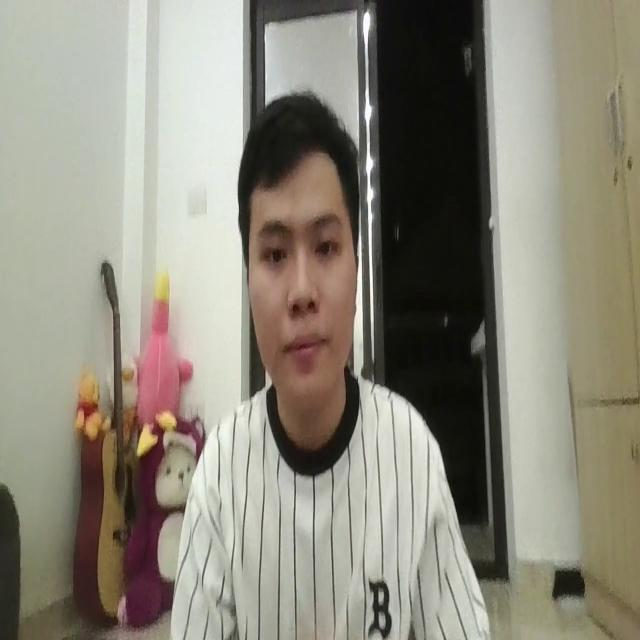student: (174, 88, 488, 640)
